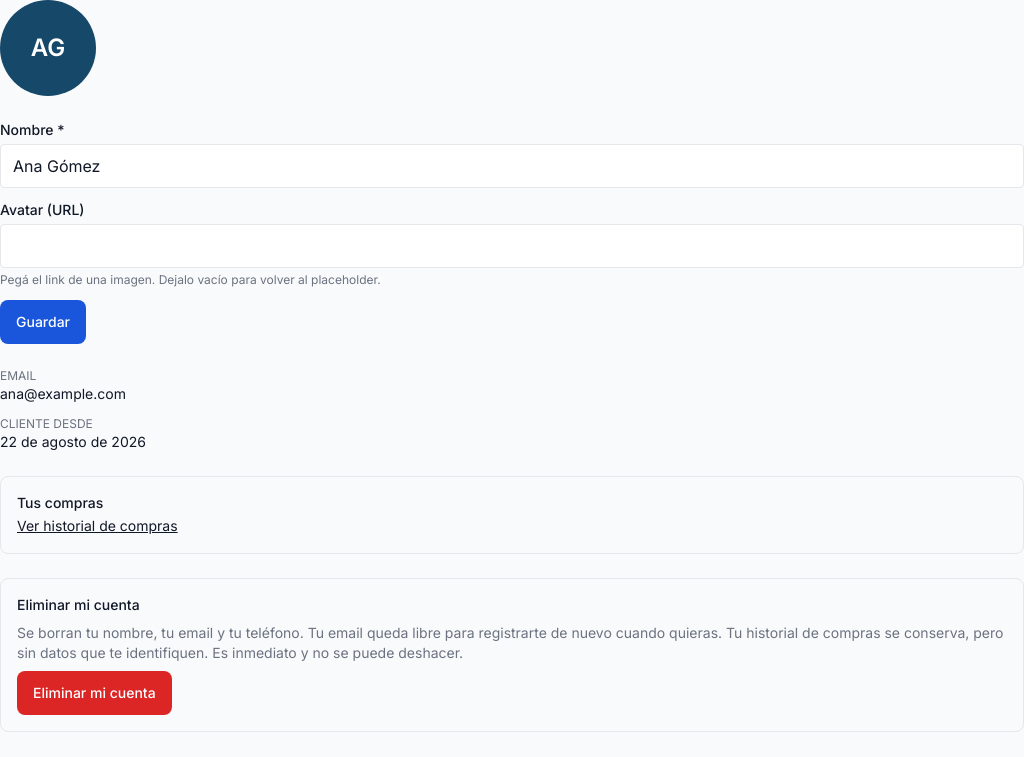
MiCuentaScreen (US-020 §D3 — levanta el estado por encima del guard) › tras borrar la cuenta, el árbol se reemplaza por AccountDeletedNotice SIN que CustomerGuard redirija
The width and height of the screenshot is (1024, 757).
Click the button "Eliminar mi cuenta" at [94, 693], box [17, 671, 172, 715]
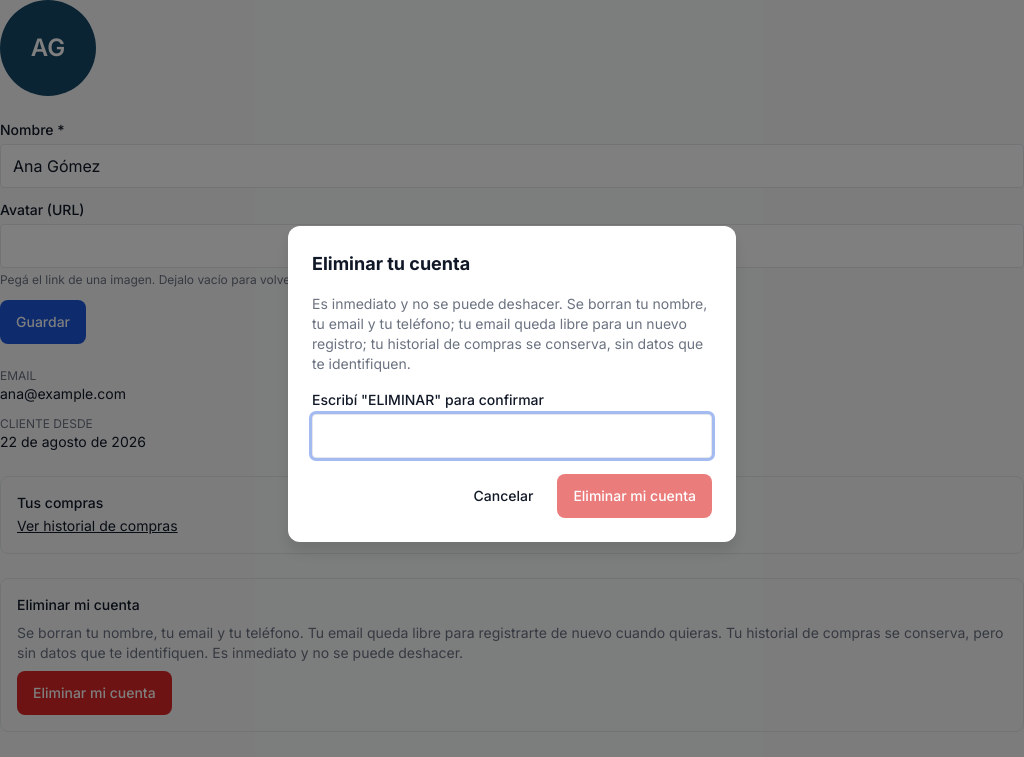
Type "ELIMINAR" into the field labelled "Escribí \"ELIMINAR\" para confirmar" at [512, 436], box [312, 414, 712, 458]
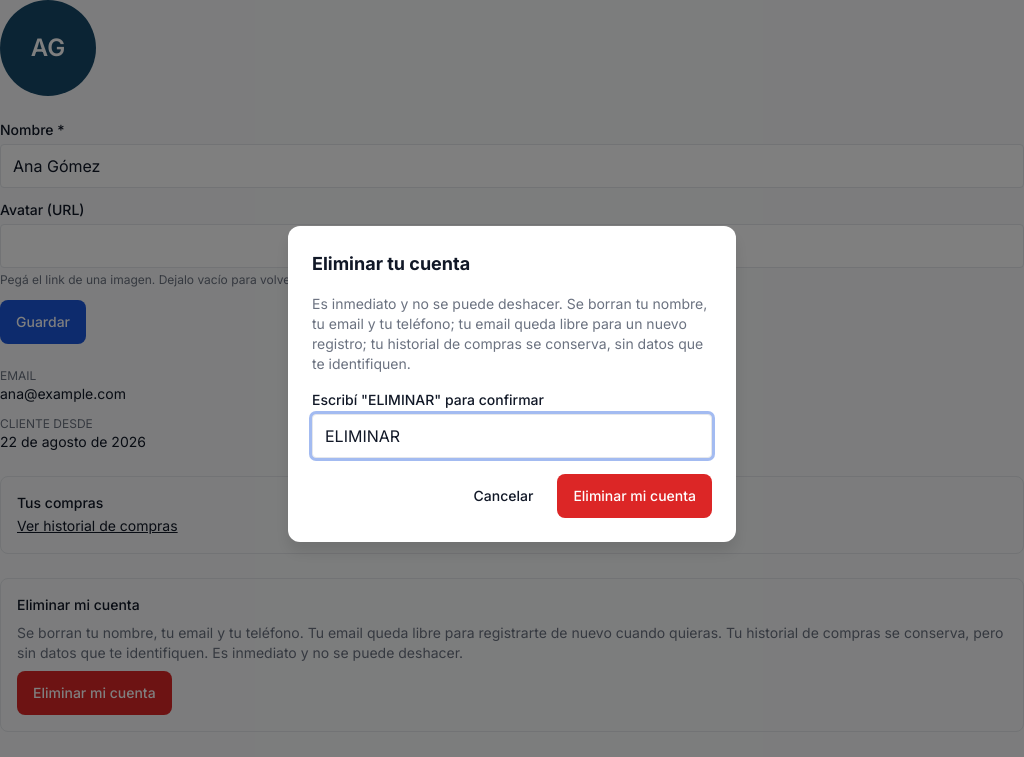
Click the button "Eliminar mi cuenta" below "Escribí \"ELIMINAR\" para confirmar" at [635, 496], box [557, 474, 712, 518]
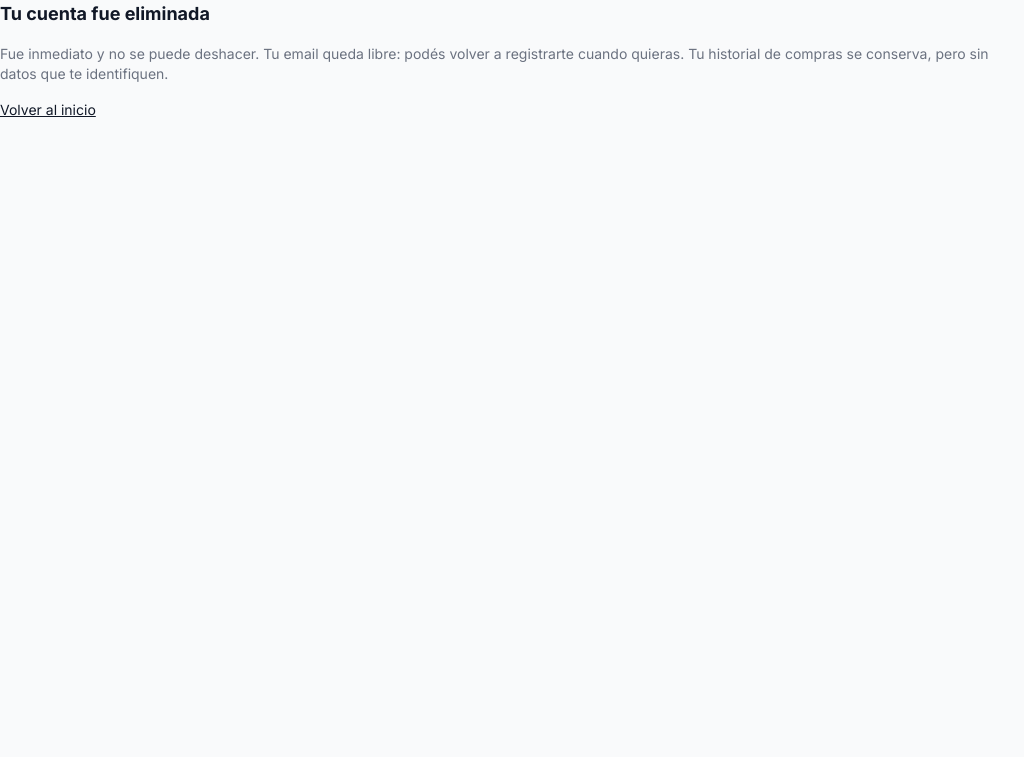
Expected: the heading "Tu cuenta fue eliminada" is shown, [0, 3, 210, 24]
